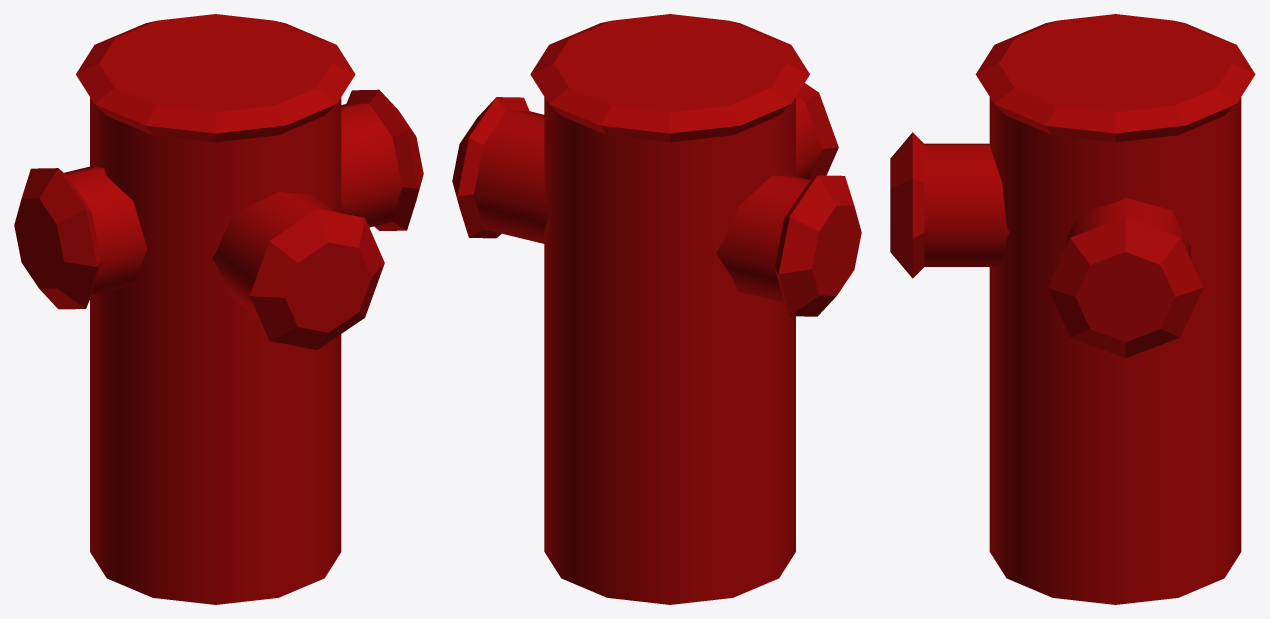
Rendered from hidrante.FBX.
3 renders of one model, left to right at view 1: azimuth 30°, elevation 25°; view 2: azimuth 150°, elevation 25°; view 3: azimuth 270°, elevation 25°, orthographic.
Visible parts, largest first — view 1: Cidade_Hidrante; view 2: Cidade_Hidrante; view 3: Cidade_Hidrante.
Boxes of the visible parts, box(x1,y1,x2,y2) form: Cidade_Hidrante: box(14, 14, 423, 604); Cidade_Hidrante: box(452, 14, 861, 604); Cidade_Hidrante: box(890, 14, 1255, 604).
Bounding box in the file's own units: 0.3441 × 0.3025 × 0.4467.
